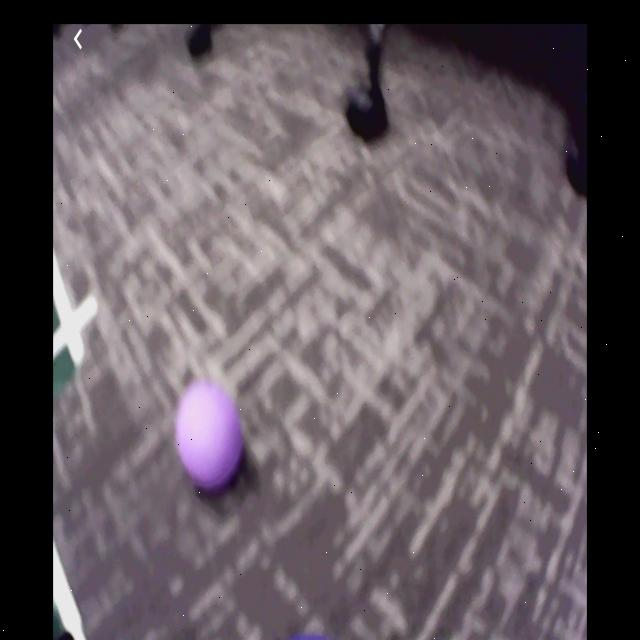ball: (176, 382, 245, 490)
